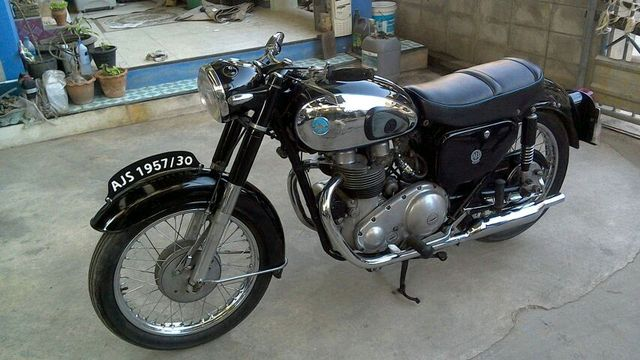motorcycle: (98, 59, 596, 351)
